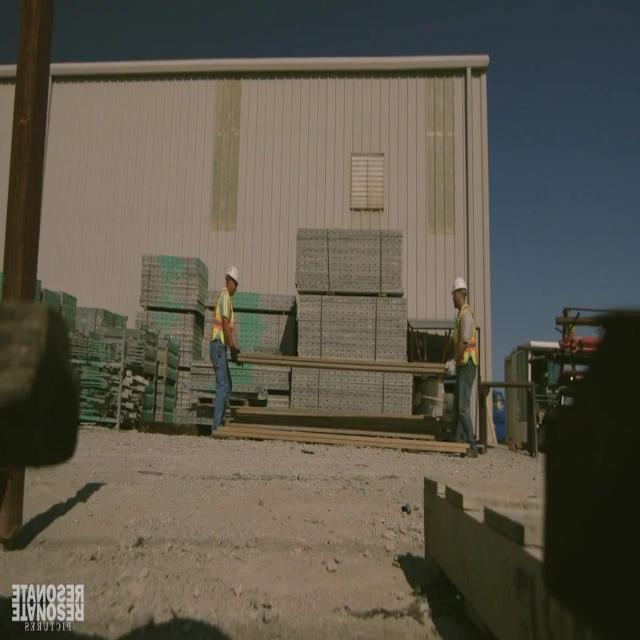Reflective-Jacket: (446, 305, 484, 379), (207, 287, 241, 357)
Safety-Helmet: (448, 271, 472, 300), (223, 260, 243, 290)
